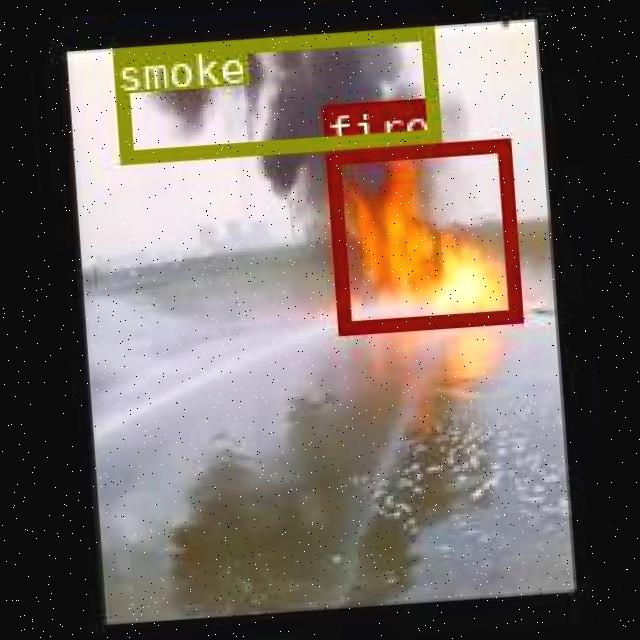fire: (323, 137, 518, 330)
smoke: (110, 25, 437, 160)
